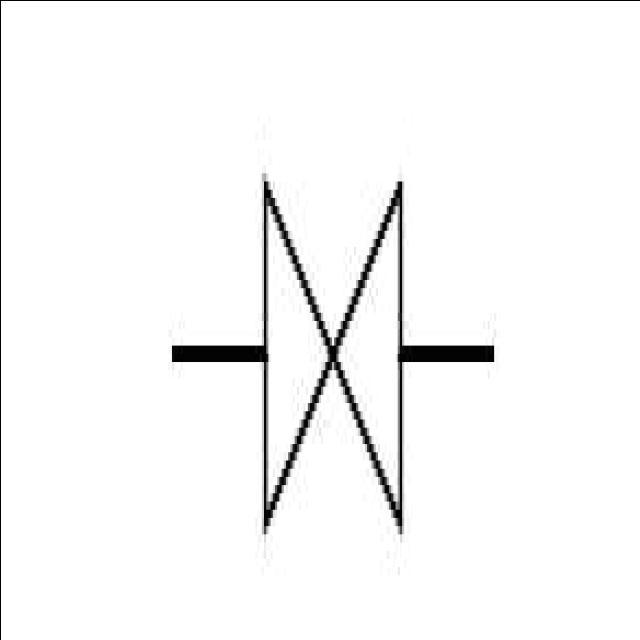Gate Valve: (246, 147, 422, 577)
